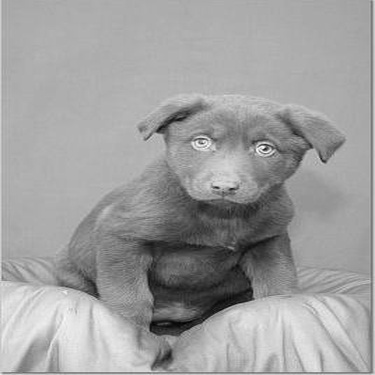dog: (33, 71, 350, 352)
